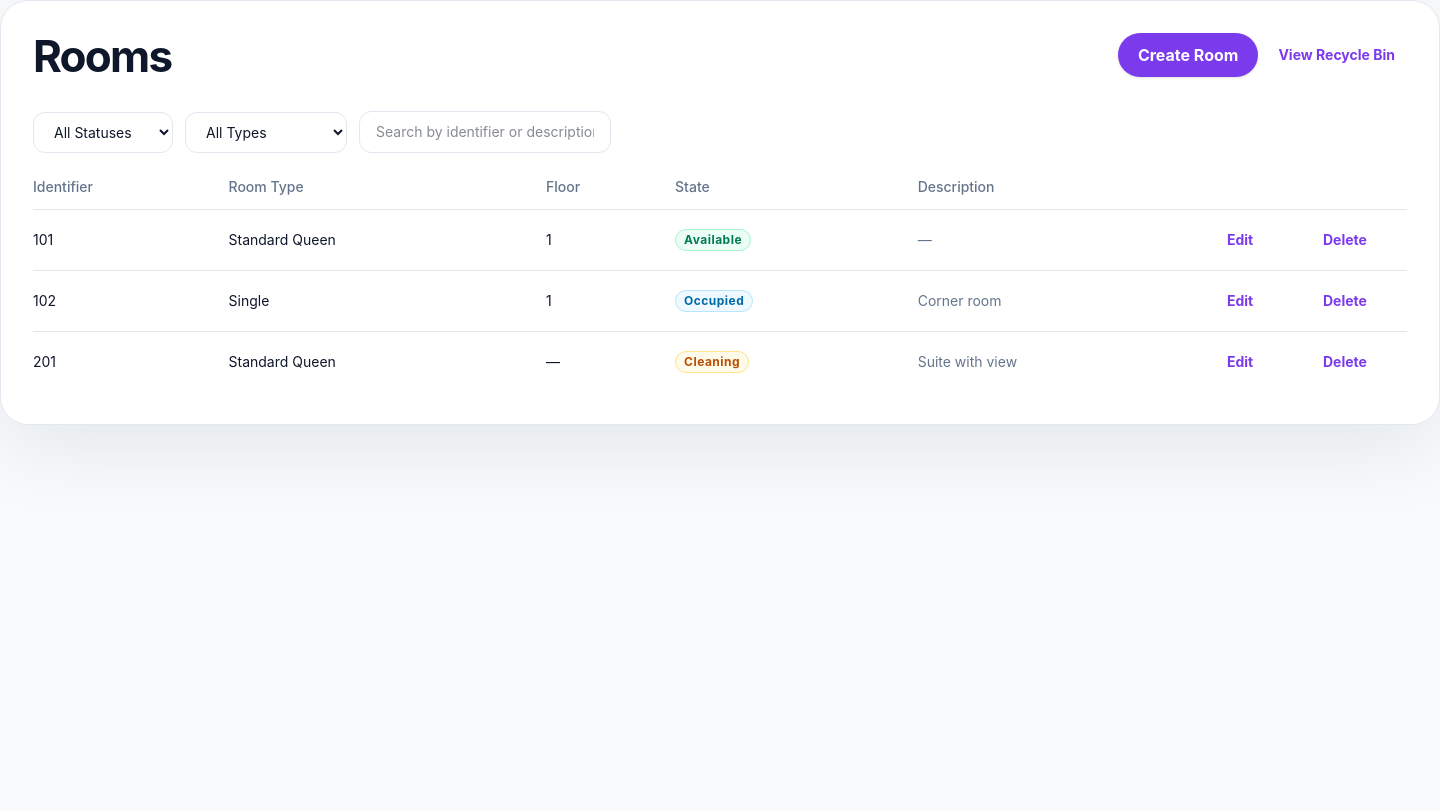
it: RoomsPage › modal create flow › opens the create modal when Create Room is clicked
Click the button "Create Room": [1188, 55] box [1118,33,1258,77]
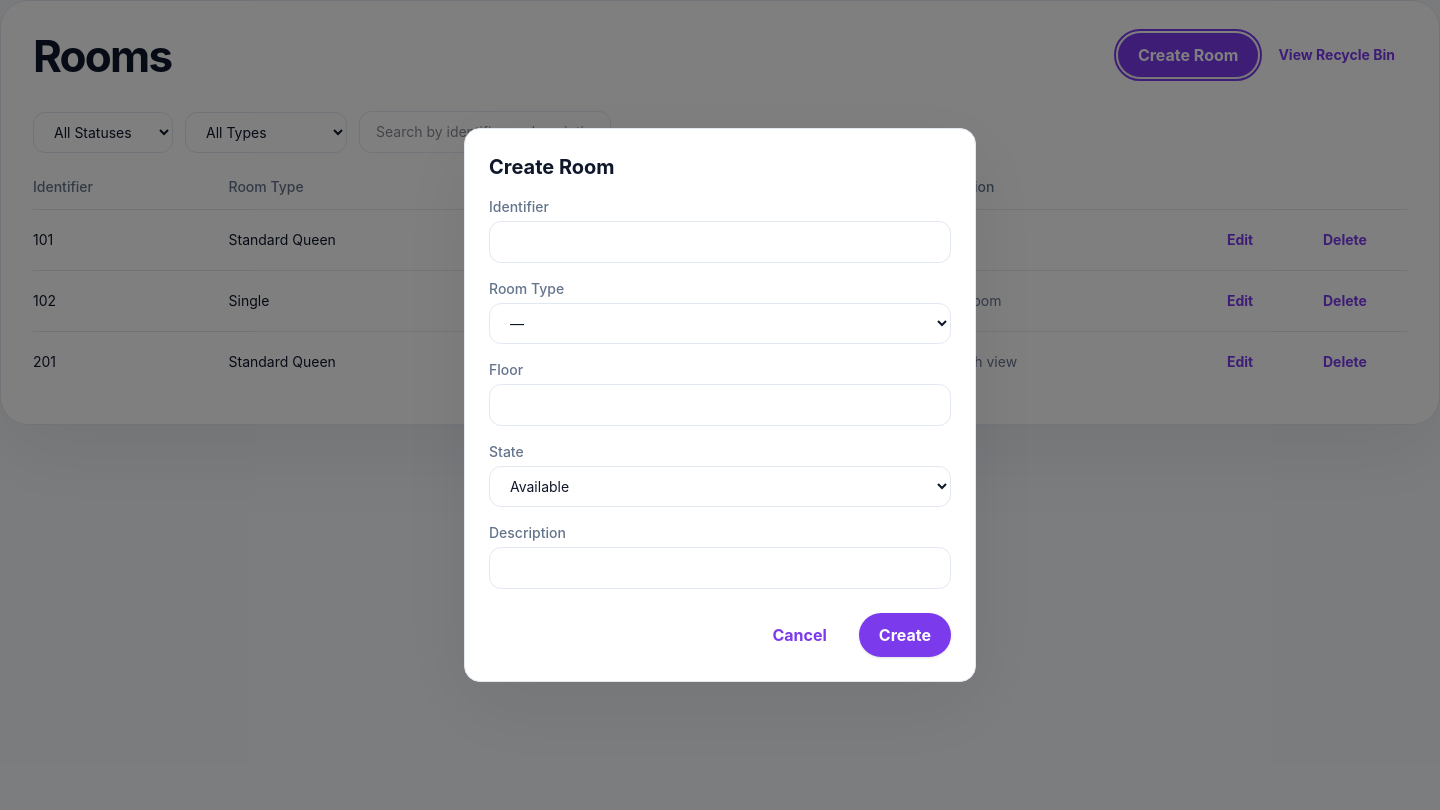
Now the dialog is shown, box [464,128,976,682]
Now the heading "Create Room" is shown, box [489,155,615,179]
